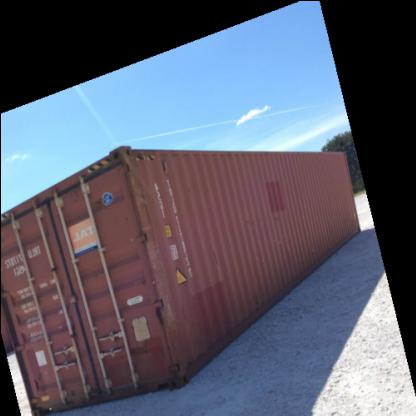Damage: (158, 290, 184, 374), (124, 155, 152, 224), (141, 226, 167, 292)
